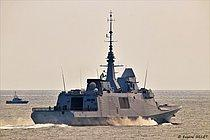MIL_Ship: (30, 32, 182, 125)
